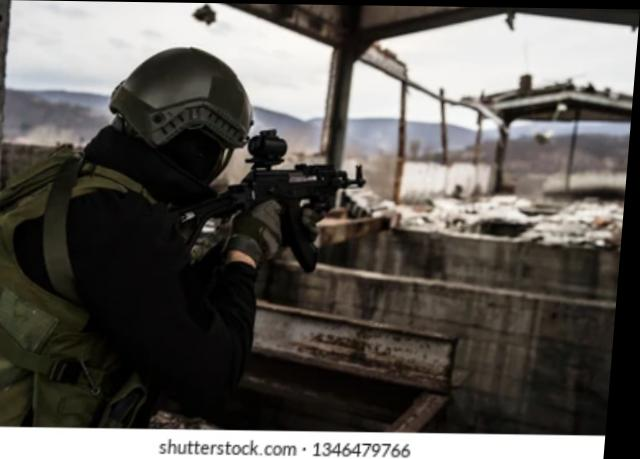other: (0, 43, 293, 424)
